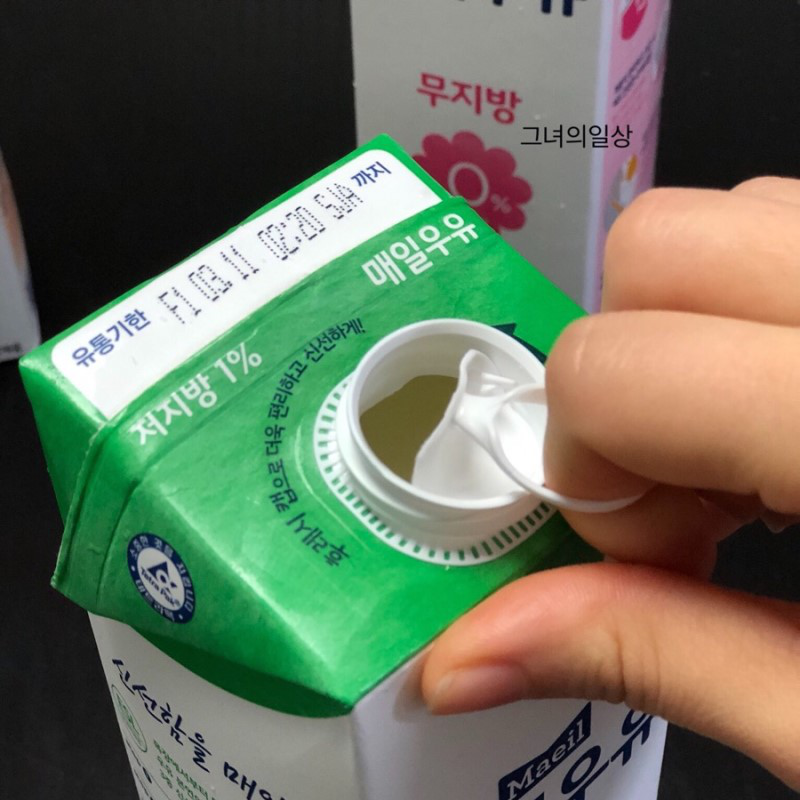milk: (18, 134, 672, 800), (347, 2, 668, 314)
